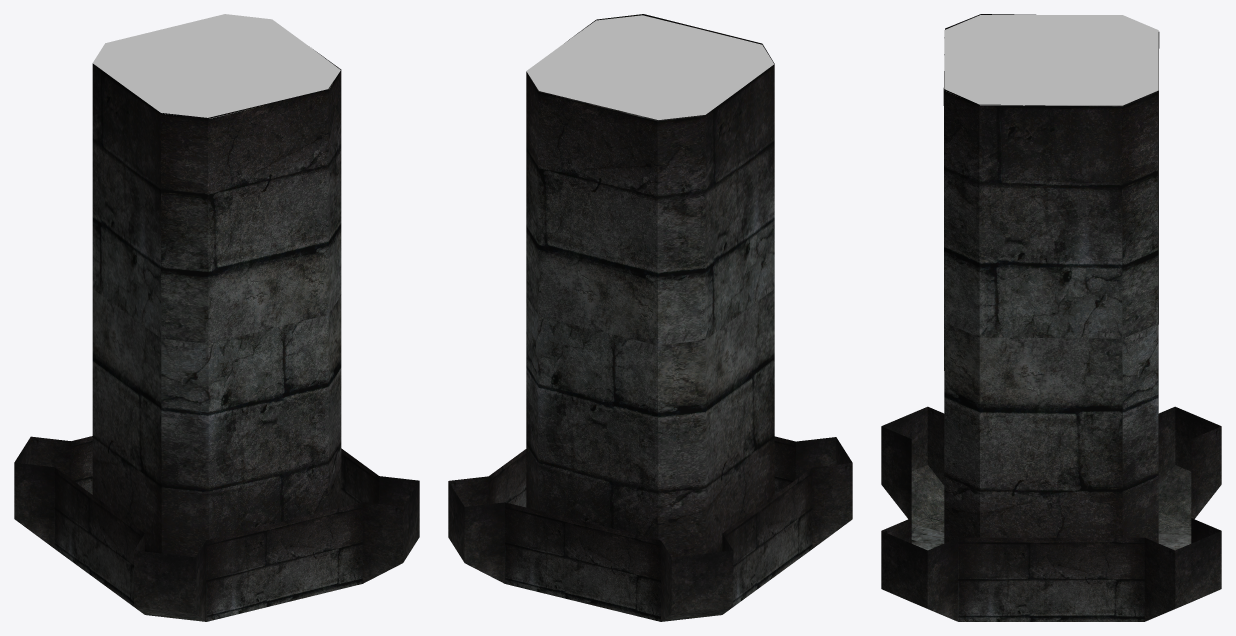
Rendered from window_high.dae.
3 views of the same model, side by side, from view 1: azimuth 30°, elevation 25°; view 2: azimuth 150°, elevation 25°; view 3: azimuth 270°, elevation 25° (orthographic). The views are drawn at different scales.
Visible parts, largest first — view 1: polySurface4, polySurface5; view 2: polySurface4, polySurface5; view 3: polySurface4, polySurface5.
Part boxes in pixels (bbox=[...]): polySurface4: bbox=[14, 49, 419, 621]; polySurface5: bbox=[93, 14, 340, 118]; polySurface4: bbox=[448, 14, 852, 621]; polySurface5: bbox=[526, 15, 773, 119]; polySurface4: bbox=[881, 14, 1221, 621]; polySurface5: bbox=[944, 15, 1158, 105].
Bounding box in the file's own units: 3.66 × 5.97 × 3.66.
